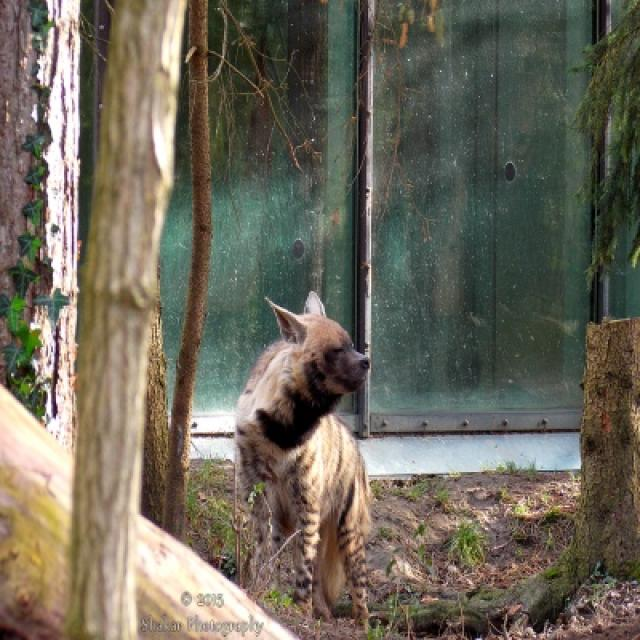hyena: (234, 296, 373, 619)
